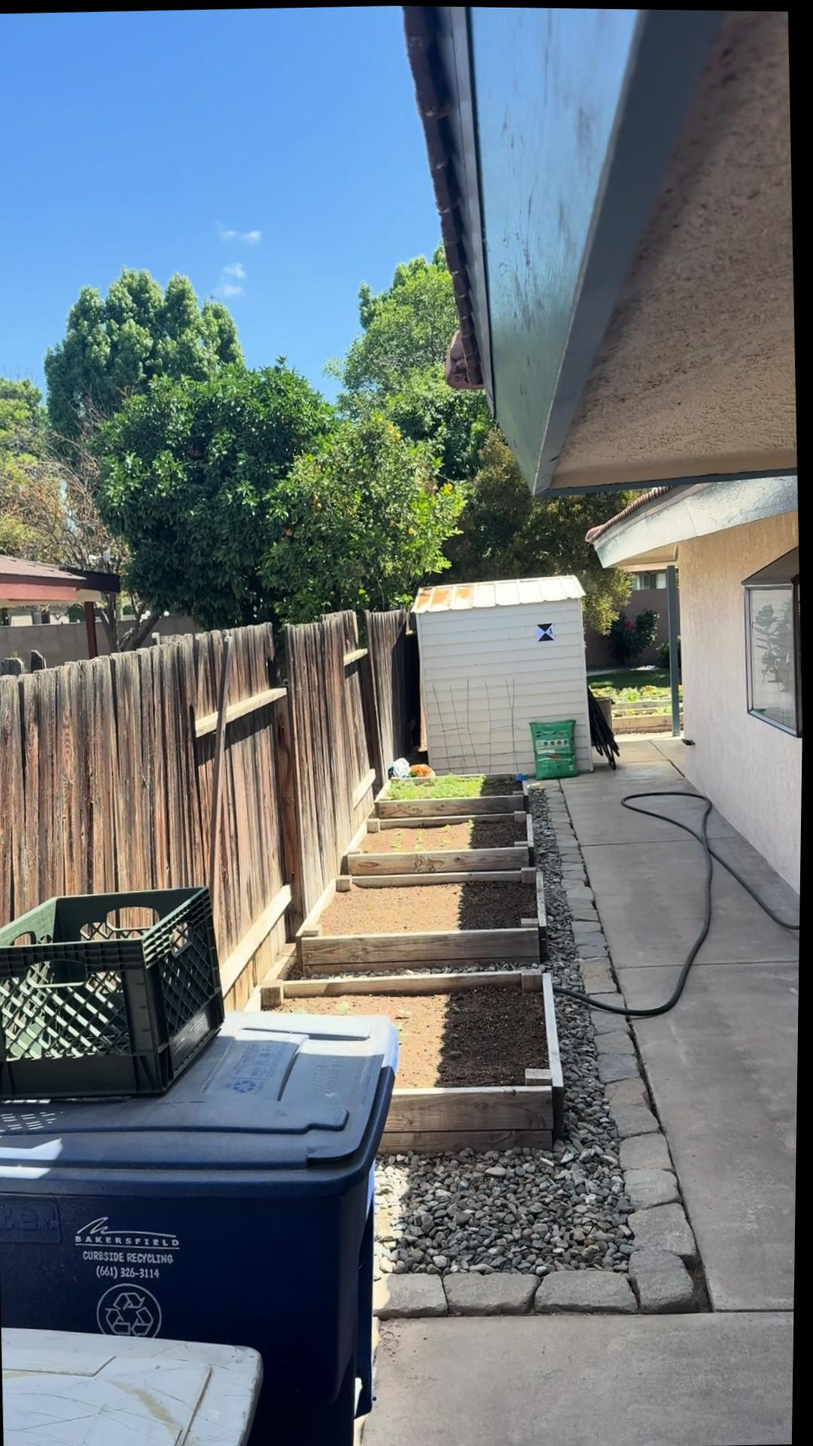target1: (533, 621, 559, 644)
